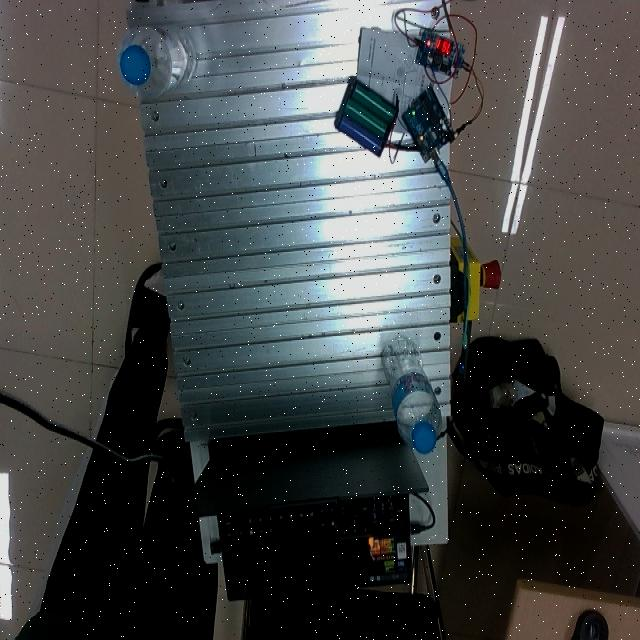lavie: (381, 336, 442, 456), (119, 27, 196, 101)
